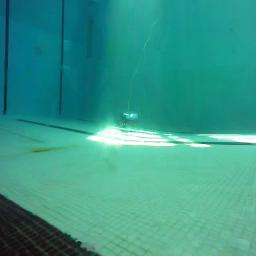front: (121, 111, 139, 127)
